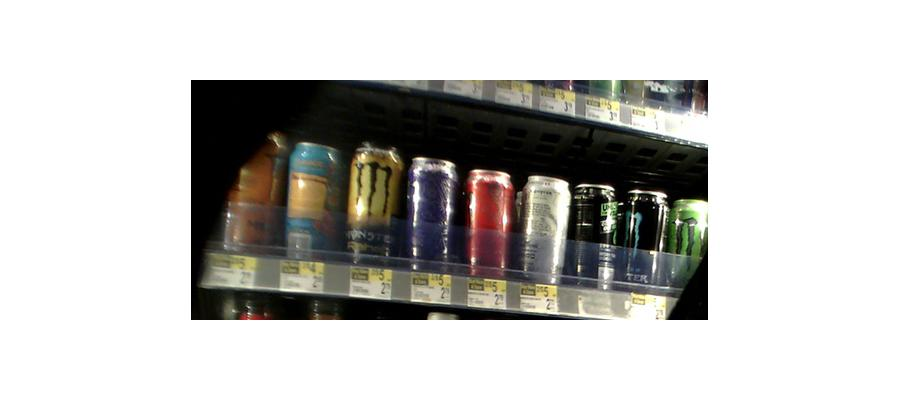bottle: (217, 129, 279, 264), (284, 140, 344, 266), (346, 140, 402, 270), (402, 153, 459, 274), (515, 172, 568, 289), (462, 165, 513, 279), (623, 186, 667, 293), (576, 183, 616, 293)
